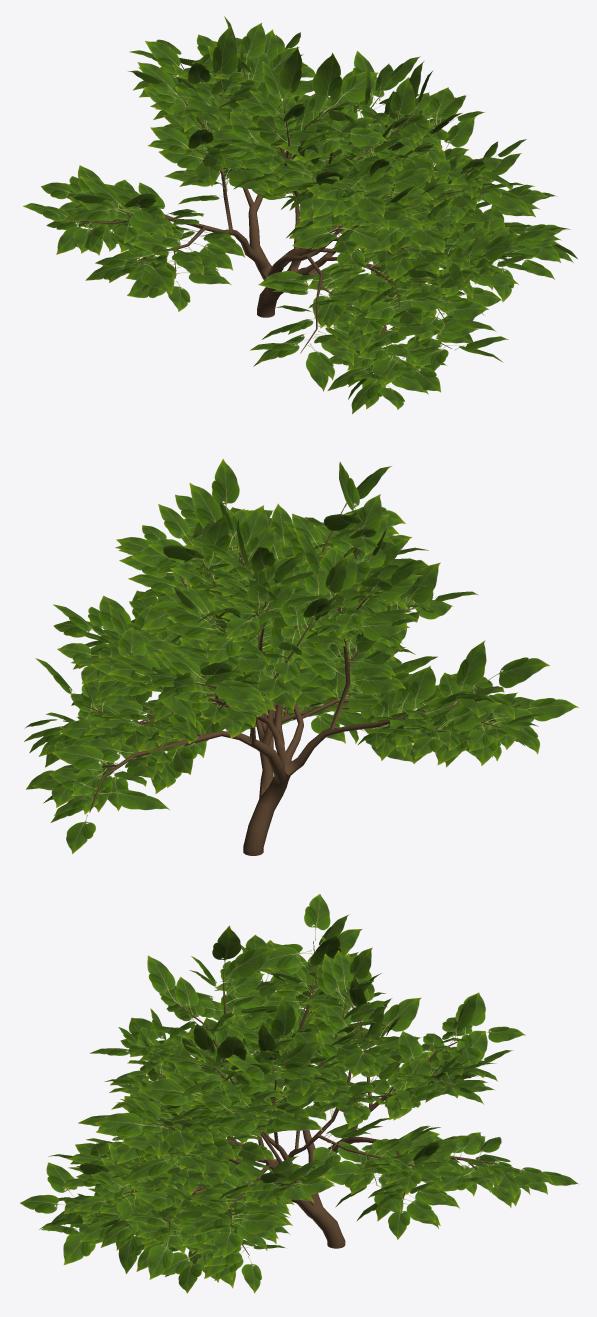
Rendered from hedge_web.glb.
3 renders of one model, top to bottom at view 1: azimuth 30°, elevation 25°; view 2: azimuth 150°, elevation 25°; view 3: azimuth 270°, elevation 25°, orthographic. The views are drawn at different scales.
Visible parts, largest first — view 1: PILOT_HEDGE_LEAVES_CC0, PILOT_HEDGE_BRANCHES_CC0; view 2: PILOT_HEDGE_LEAVES_CC0, PILOT_HEDGE_BRANCHES_CC0; view 3: PILOT_HEDGE_LEAVES_CC0, PILOT_HEDGE_BRANCHES_CC0.
Boxes of the visible parts, x1,y1,x2,y2 form: PILOT_HEDGE_LEAVES_CC0: (23,16,577,414); PILOT_HEDGE_BRANCHES_CC0: (76,63,509,362); PILOT_HEDGE_LEAVES_CC0: (24,458,578,853); PILOT_HEDGE_BRANCHES_CC0: (63,502,500,855); PILOT_HEDGE_LEAVES_CC0: (20,894,578,1293); PILOT_HEDGE_BRANCHES_CC0: (84,941,520,1255).
Size of the model in its own units: 1.25 by 0.7658 by 1.26.
2 materials, 1 textured.
